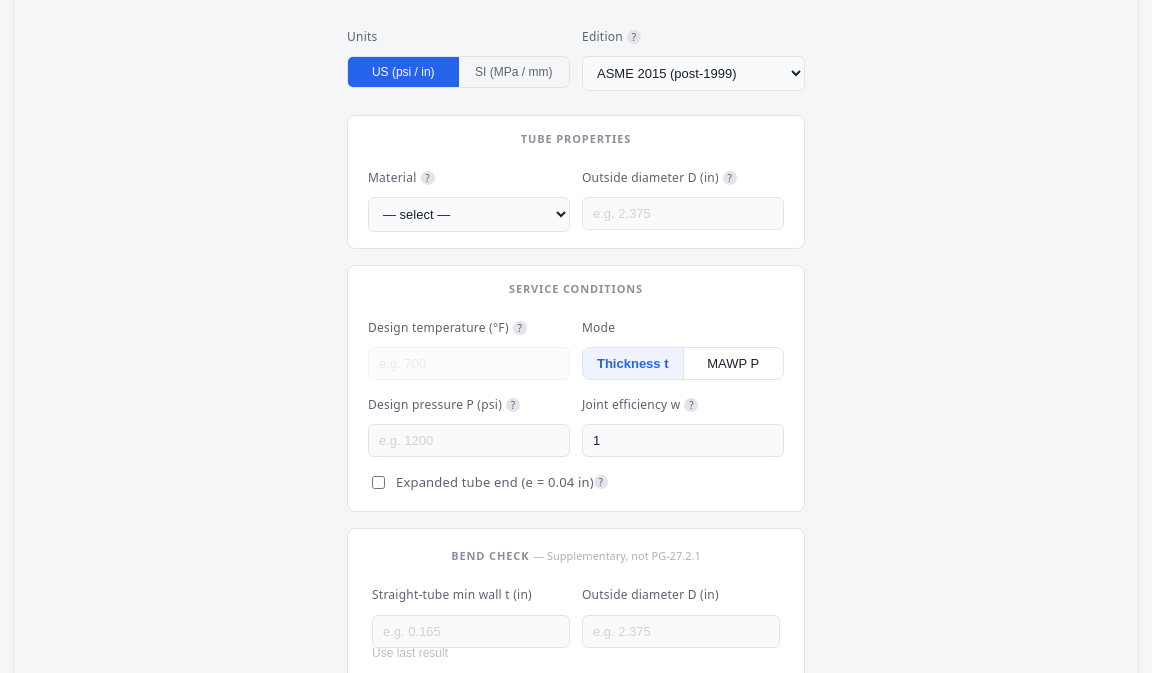
Test: TubeCalculator practical minimum note › note absent in MAWP mode regardless of result
Select "SA-178 C" in the dropdown labelled "Material ?" at (469, 215), box [368,197,570,232]
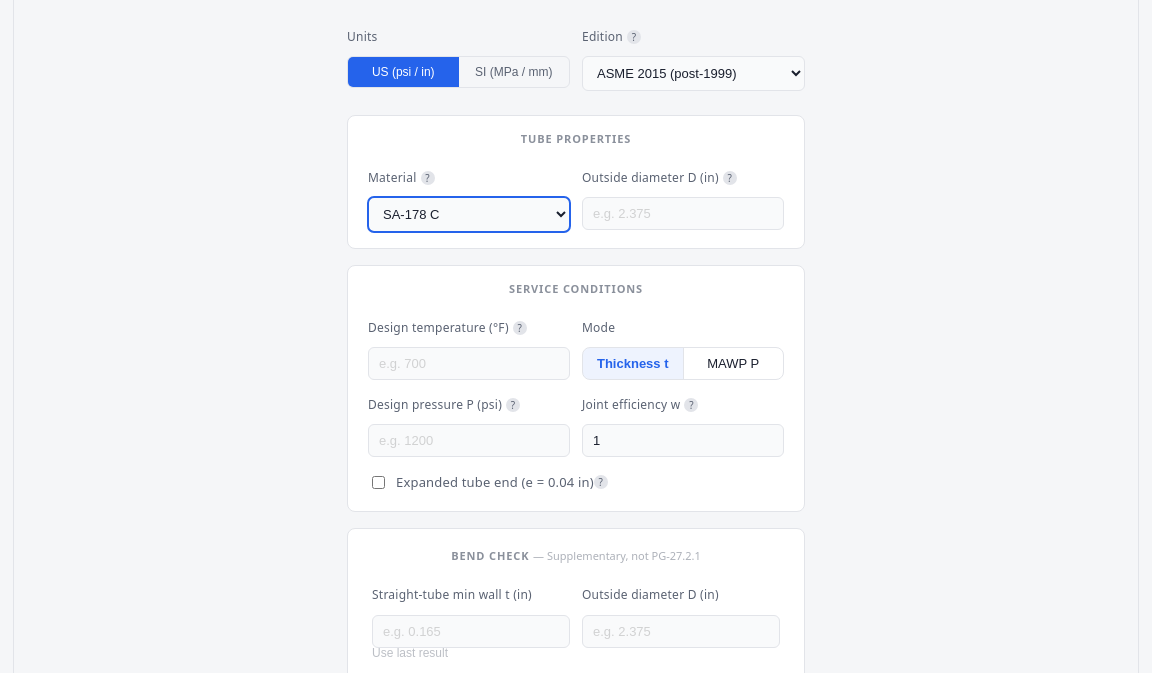
Type "700" into the number field with placeholder "e.g. 700".
click(469, 364); type("700")  # box [368,347,570,380]
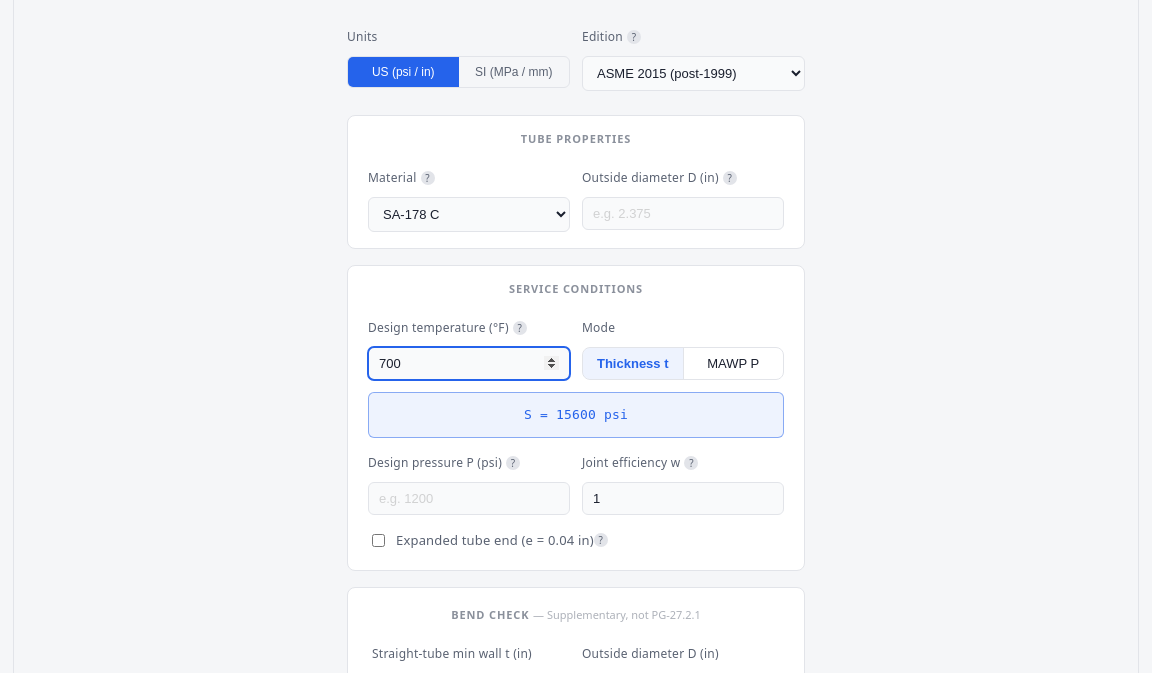
Click the button "MAWP P".
click(733, 364)  # box [684,348,783,379]
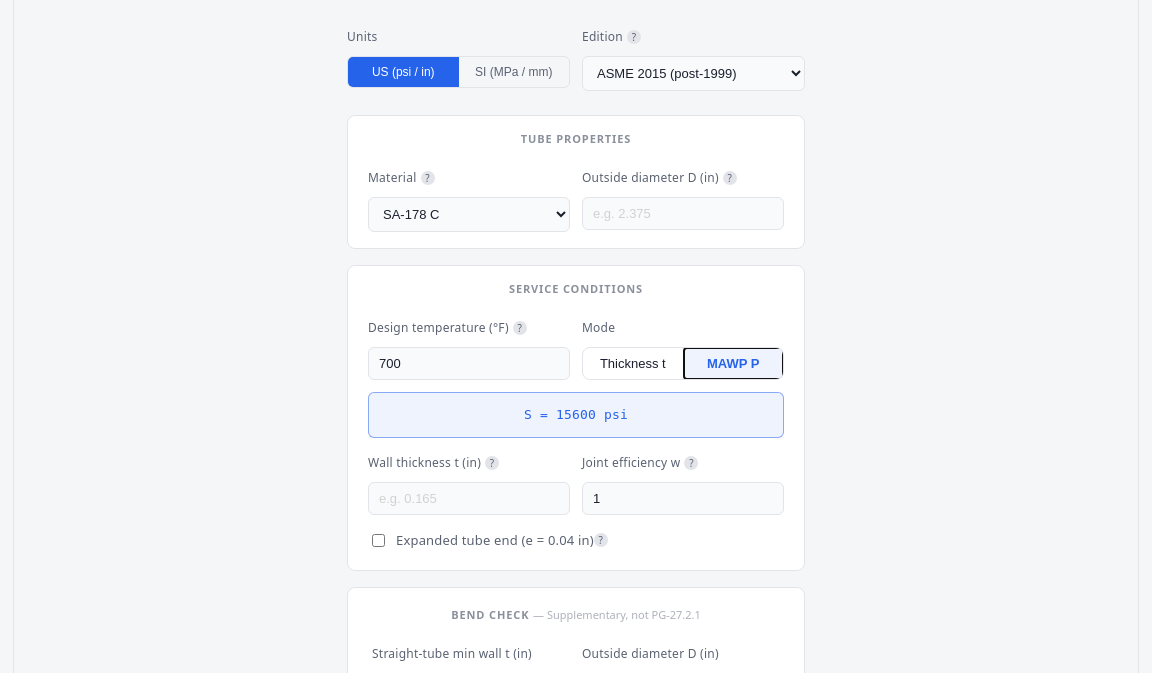
Type "0.165" into the number field with placeholder "e.g. 0.165".
click(469, 499); type("0.165")  # box [368,482,570,515]
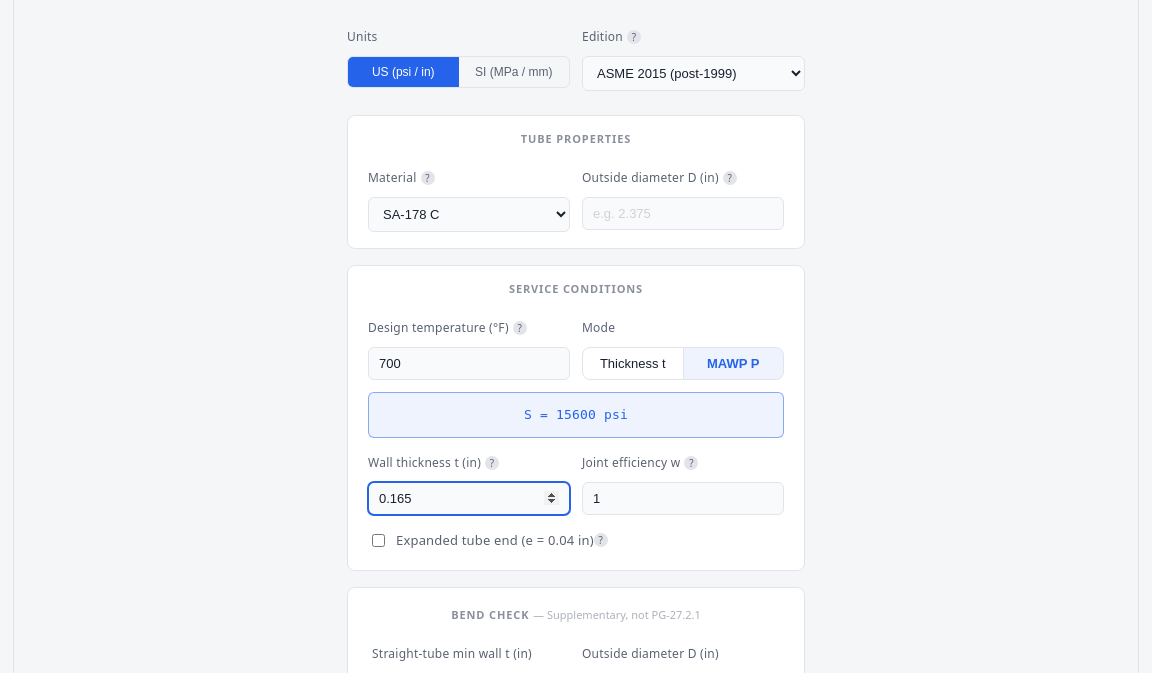
Type "2.375" into the number field with placeholder "e.g. 2.375".
click(683, 214); type("2.375")  # box [582,197,784,230]
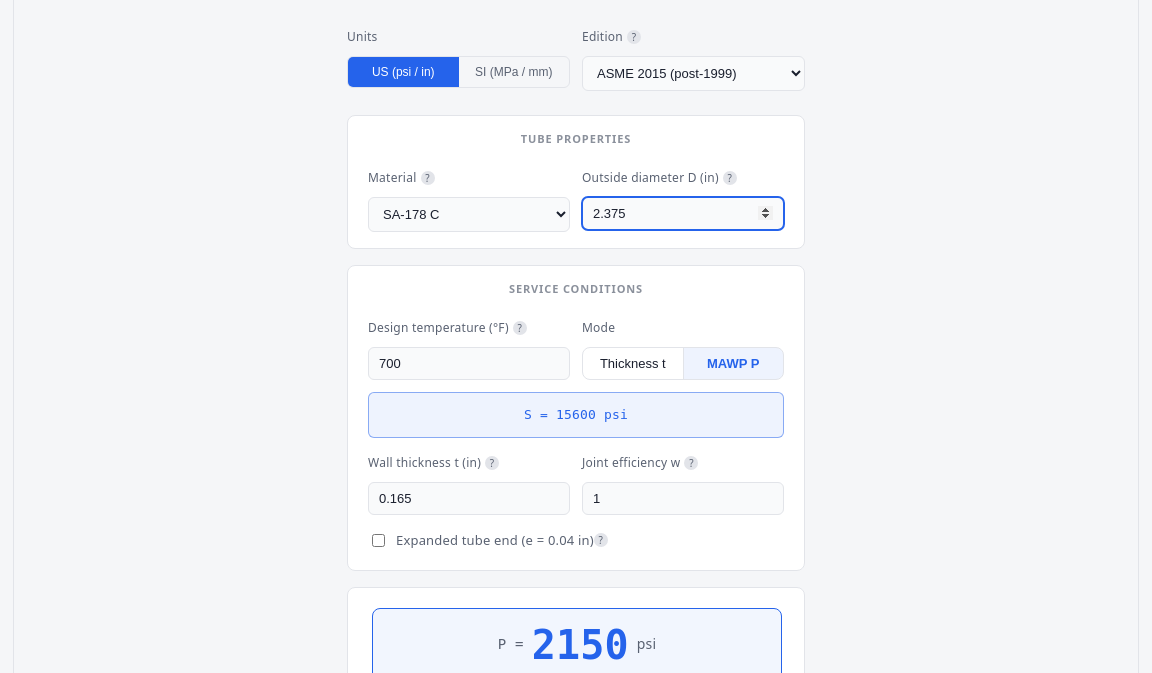
Expected: the text "P =" is shown, [498,632,524,658]
